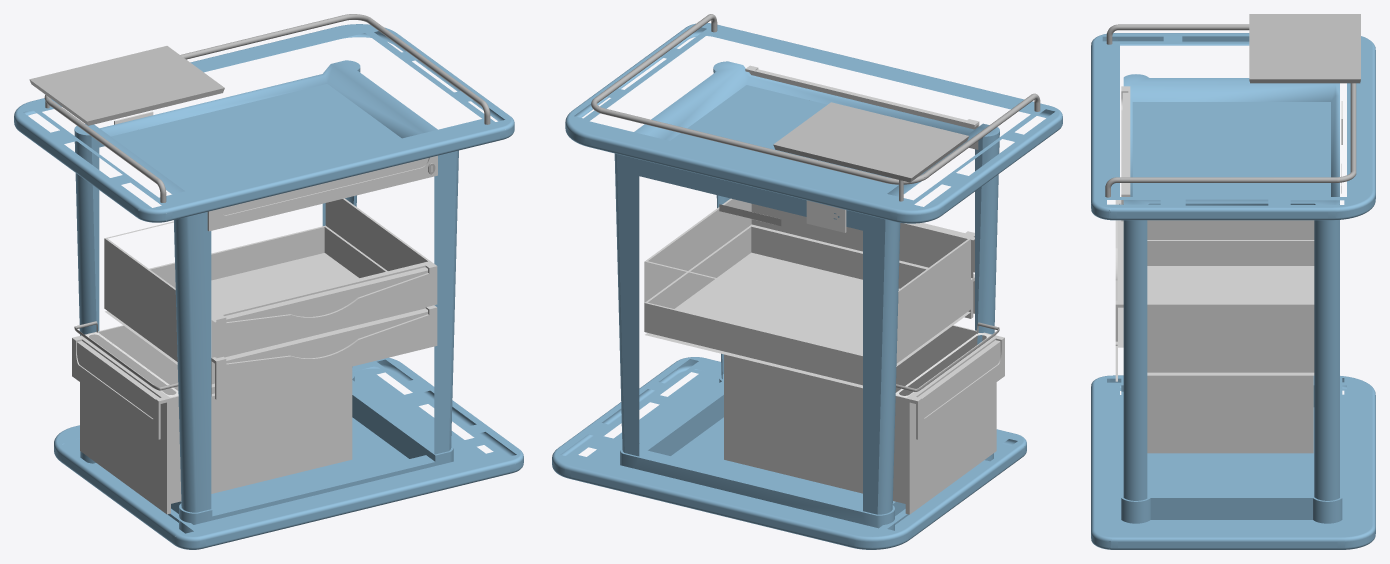
Rendered from Carro de instrumental quirúrgico.fbx.
3 views of the same model, side by side, from view 1: azimuth 30°, elevation 25°; view 2: azimuth 150°, elevation 25°; view 3: azimuth 270°, elevation 25° (orthographic). The views are drawn at different scales.
Visible parts, largest first — view 1: Carro de instrumental quirúrgico; view 2: Carro de instrumental quirúrgico; view 3: Carro de instrumental quirúrgico.
Part boxes in pixels (<box>): Carro de instrumental quirúrgico: <box>14,14,523,549</box>; Carro de instrumental quirúrgico: <box>552,14,1062,549</box>; Carro de instrumental quirúrgico: <box>1091,14,1375,549</box>.
Bounding box in the file's own units: 120 × 115 × 79.38.
